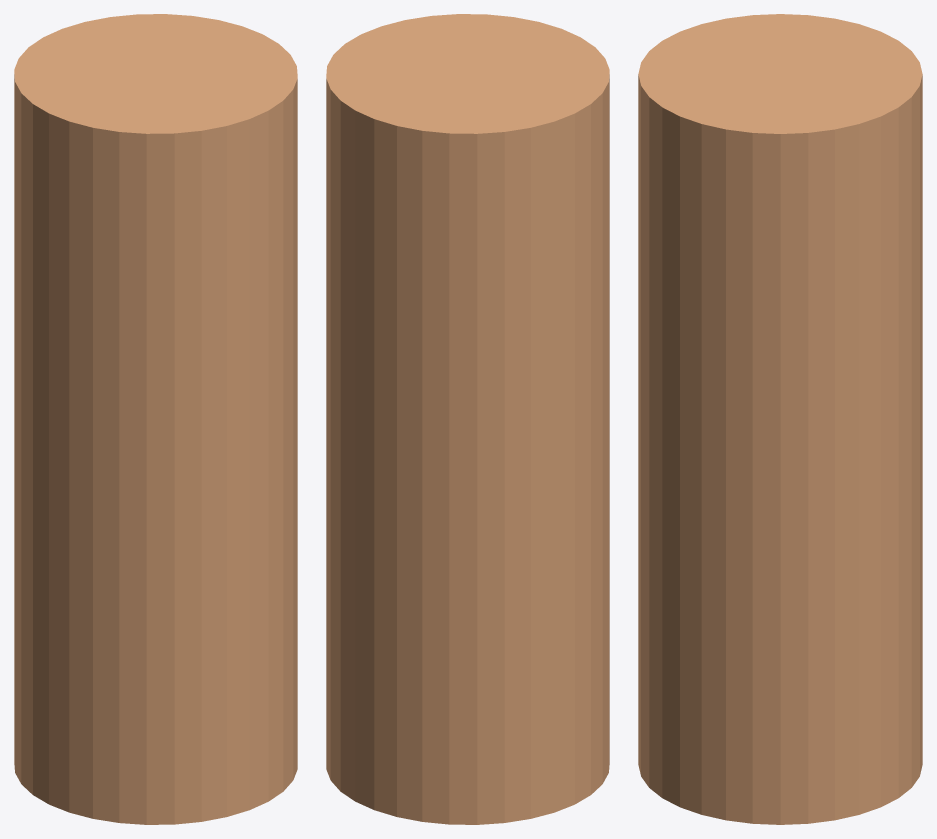
Rendered from Tree.fbx.
The picture shows the model from 3 angles, left to right: view 1: azimuth 30°, elevation 25°; view 2: azimuth 150°, elevation 25°; view 3: azimuth 270°, elevation 25°; orthographic projection.
Visible parts, largest first — view 1: Cylinder; view 2: Cylinder; view 3: Cylinder.
Part boxes in pixels (left/top/right/bottom): Cylinder: left=14, top=14, right=297, bottom=824; Cylinder: left=326, top=14, right=609, bottom=824; Cylinder: left=638, top=14, right=922, bottom=824.
Size of the model in its own units: 200 by 537 by 200.
